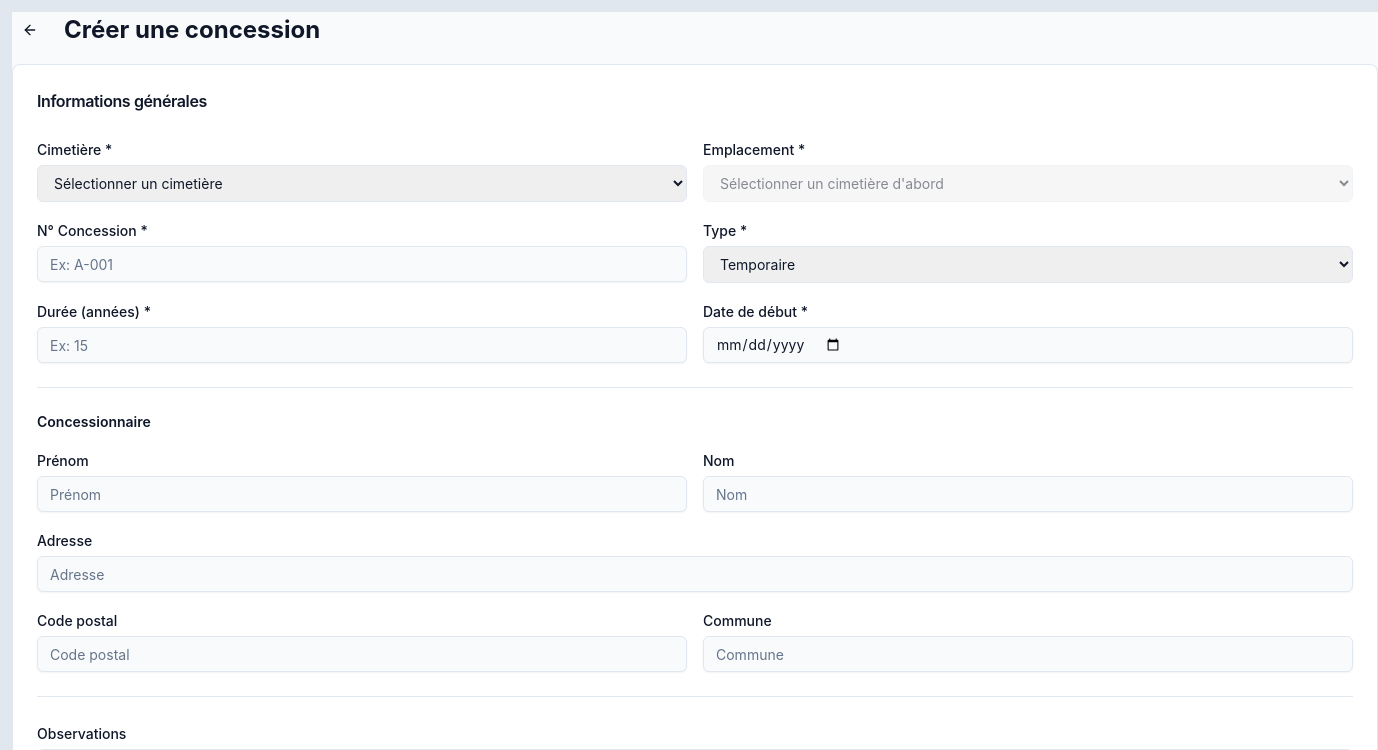
Test: ConcessionEditPage › displays CINQUANTENAIRE type with 50 years duration in create form
Select "50 ans" in the dropdown labelled "Type *" at (1028, 264), box [703, 246, 1353, 283]
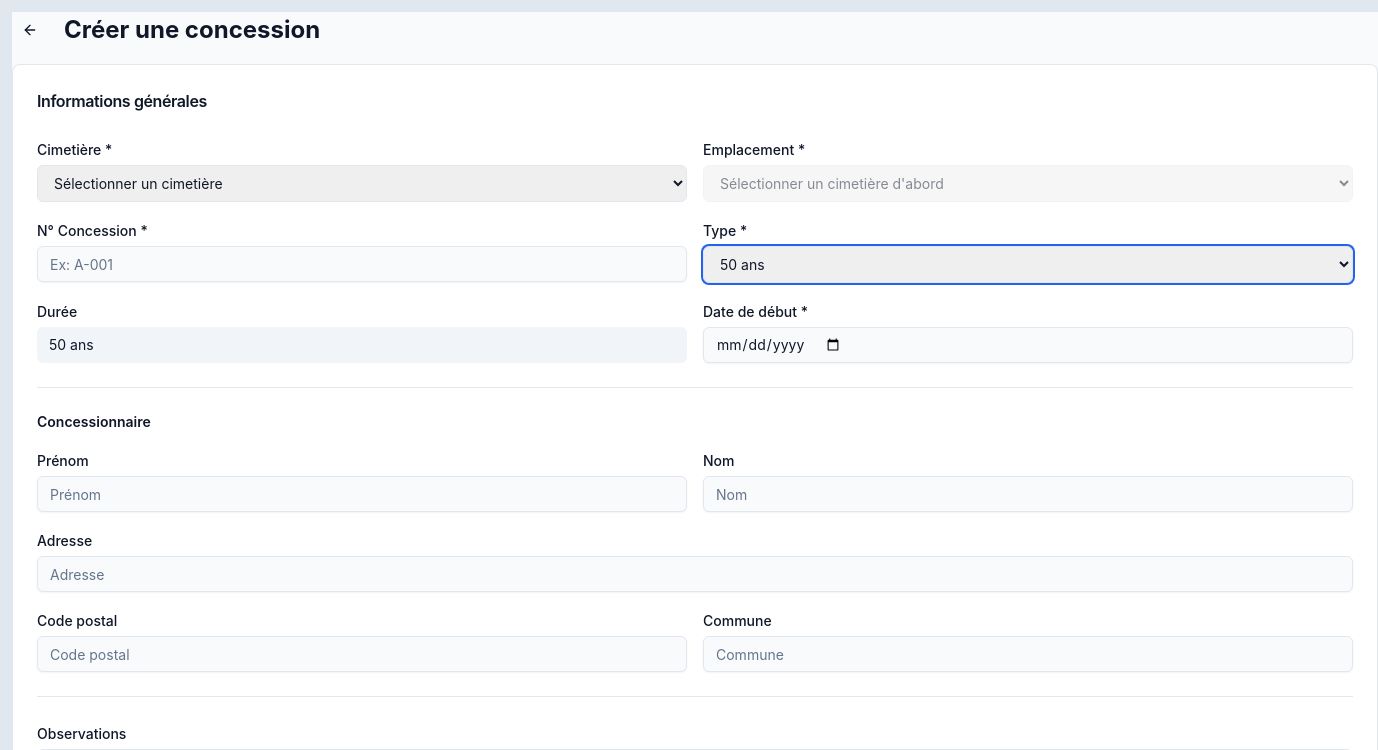
Expected: the text "Durée" is shown, [37, 303, 77, 320]
Now the label labelled "Durée (années)" is gone
